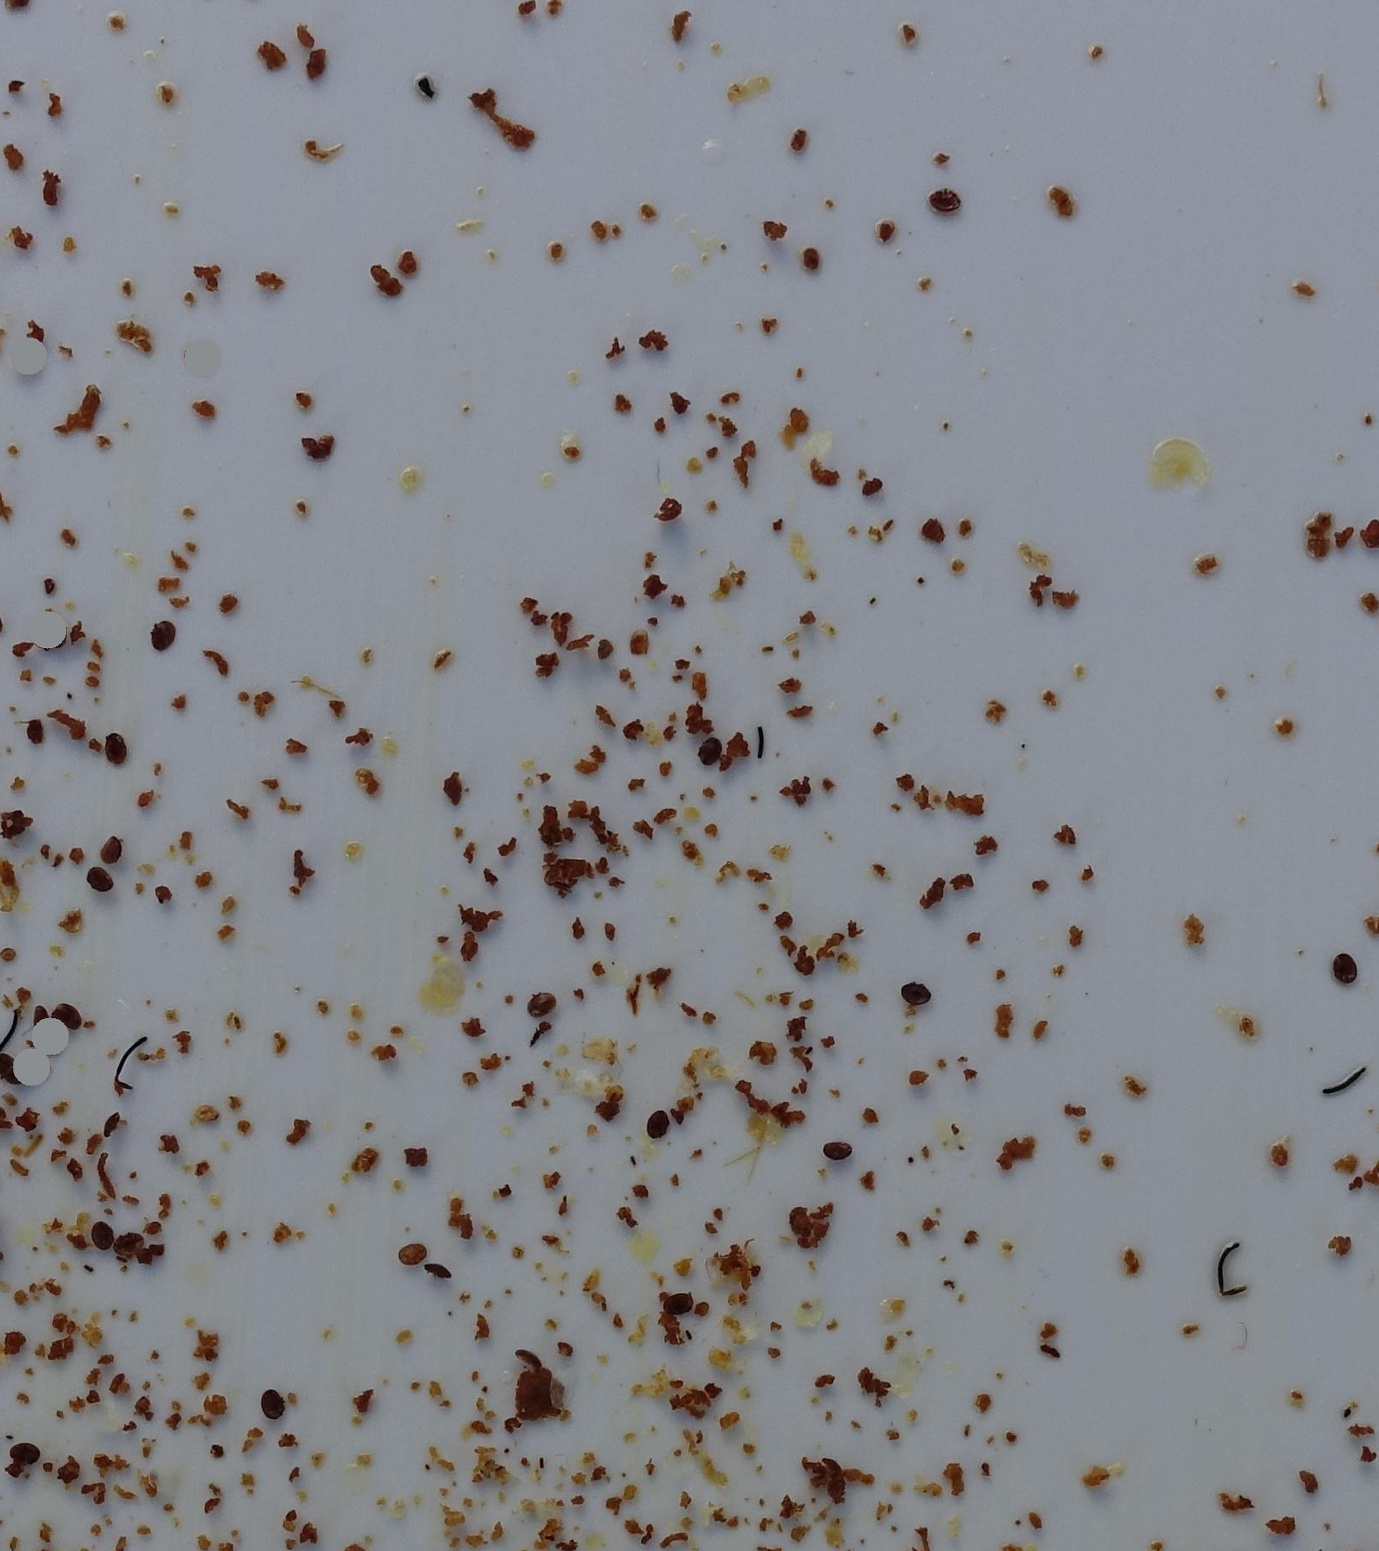Varroa: (92, 1104, 130, 1144), (110, 1226, 150, 1265), (418, 1250, 457, 1289), (821, 1136, 851, 1165), (83, 1216, 110, 1243), (12, 1440, 43, 1466), (900, 975, 926, 1002), (1326, 949, 1352, 975), (260, 1385, 284, 1413), (663, 1291, 687, 1319), (697, 738, 720, 766), (55, 1008, 76, 1033), (105, 740, 125, 760), (91, 867, 109, 888), (650, 1112, 664, 1128), (538, 996, 551, 1010), (154, 623, 168, 638), (910, 1001, 926, 1010), (938, 190, 950, 202), (410, 1251, 421, 1265), (105, 1234, 116, 1246), (1343, 971, 1355, 980)
